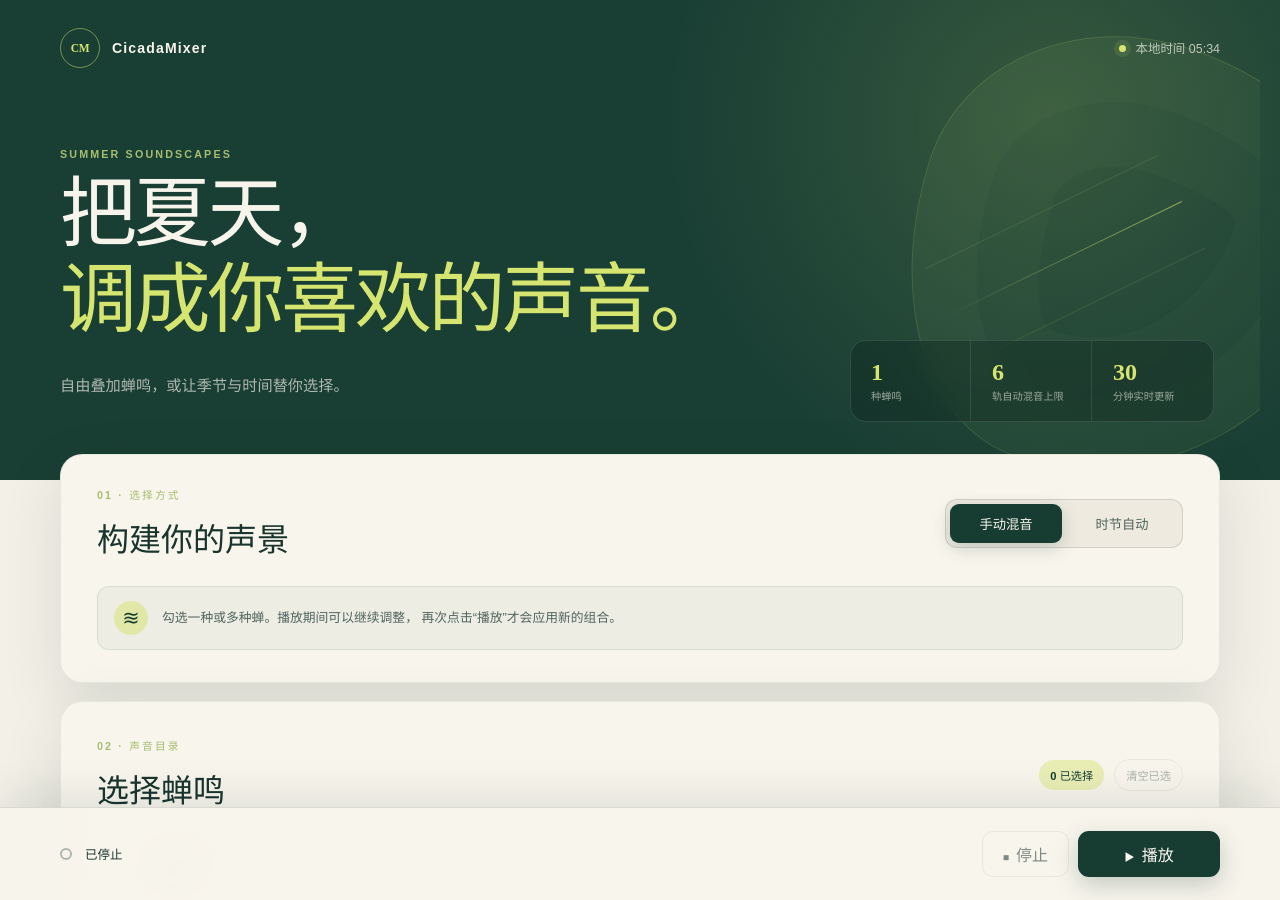
Test: App › loads the catalog and rejects an empty manual selection
Expected: the heading "选择蝉鸣" is shown, [97,765,225,811]
Click the button "▶播放" at (1149, 854), box [1078,831,1220,877]
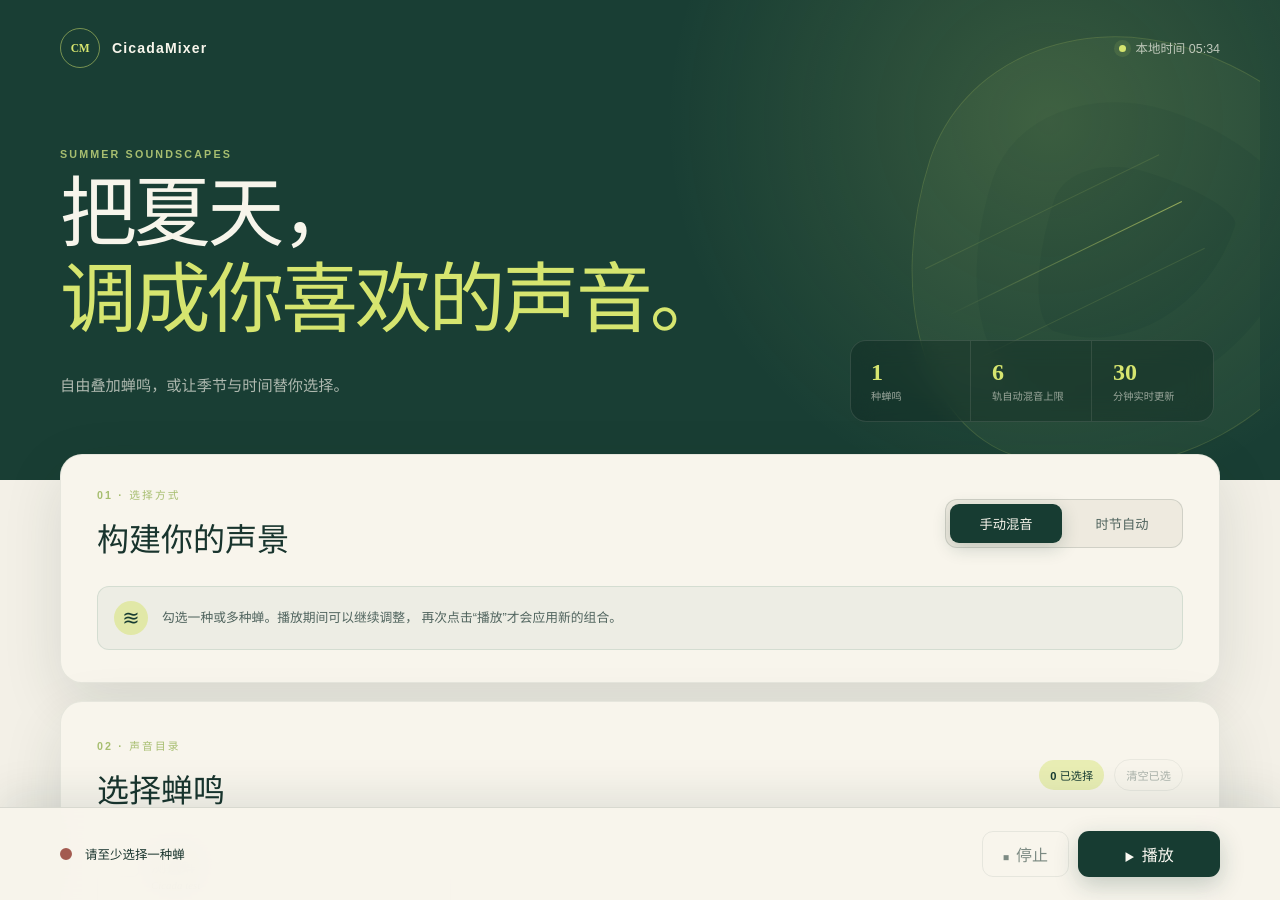
Expected: the text "请至少选择一种蝉" is shown, [85,845,185,863]
